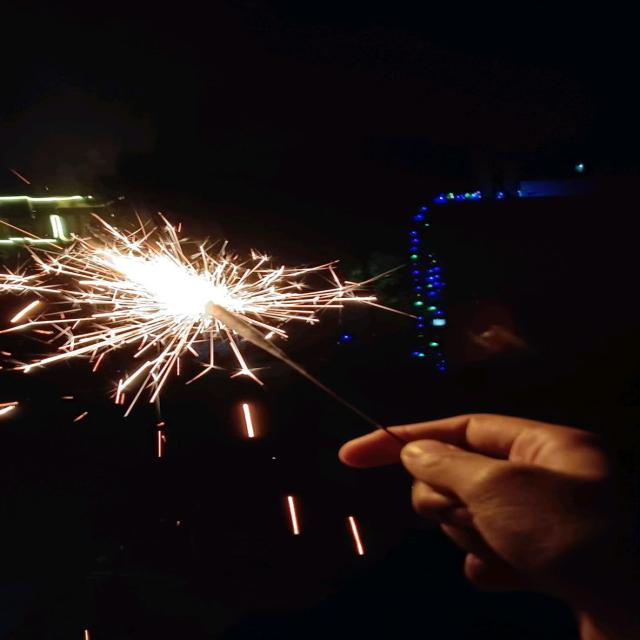fire: (90, 252, 245, 318)
